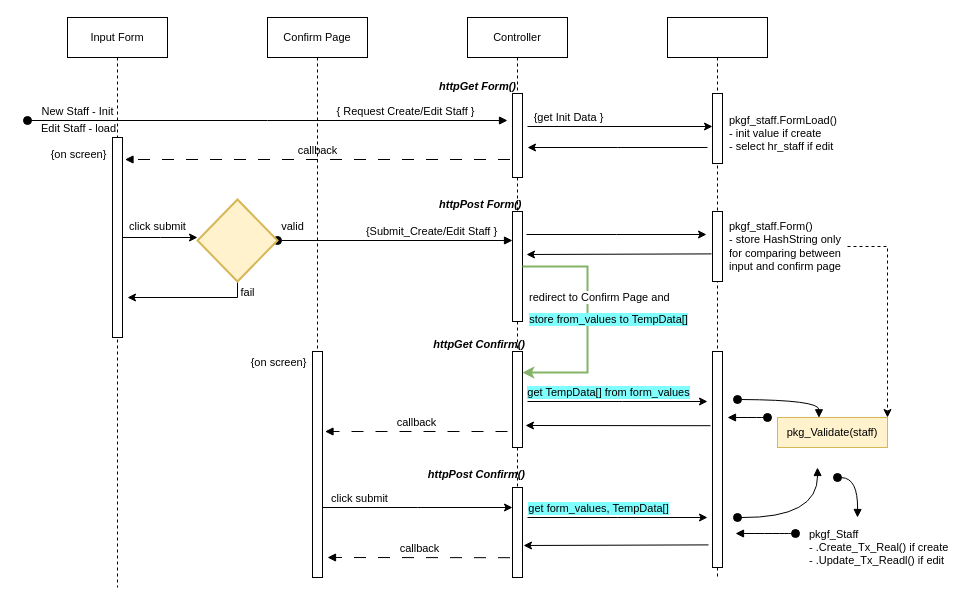
Image size: 975x605. Some labels were removed from this diagram. The shapes that lost their labels are listed below. From the top down, each one's centre as x and y in pixels, then its label:
At pixel 237 240: "valid mandatory fields".
At pixel 717 297: "Repositories / Services".
